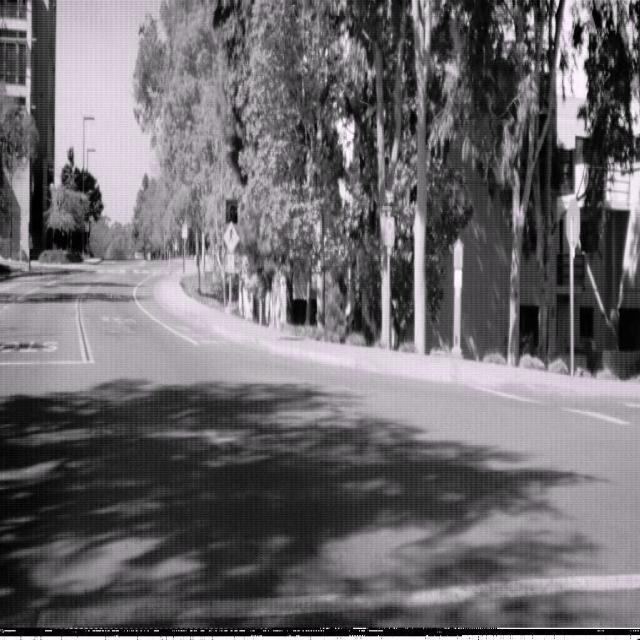pedestrianCrossing: (222, 219, 240, 254)
